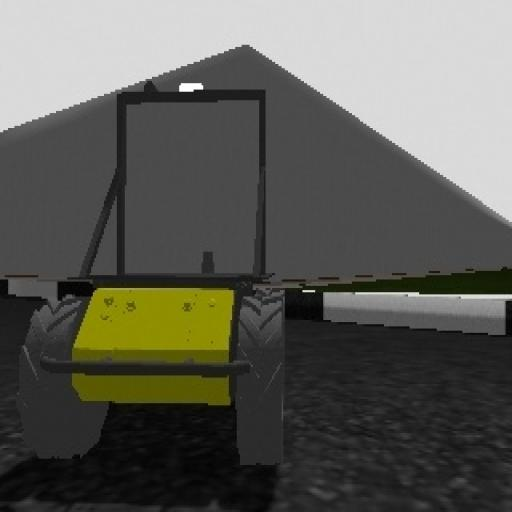huskya200: (16, 73, 300, 492)
